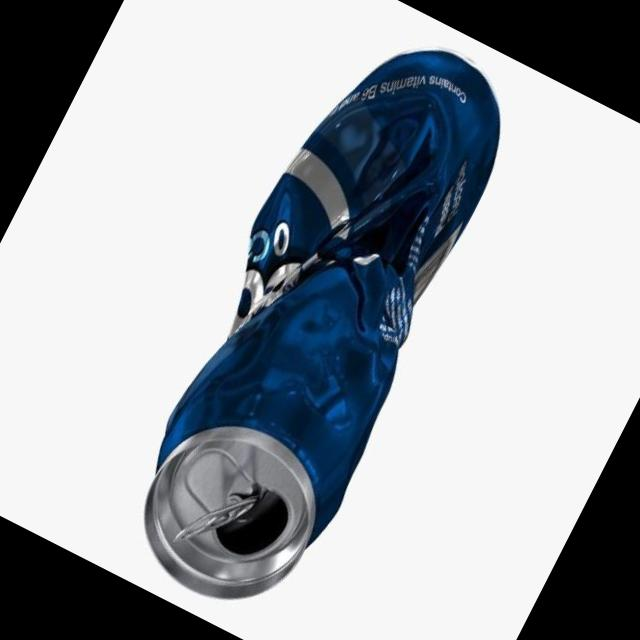Kaleng: (90, 6, 550, 636)
